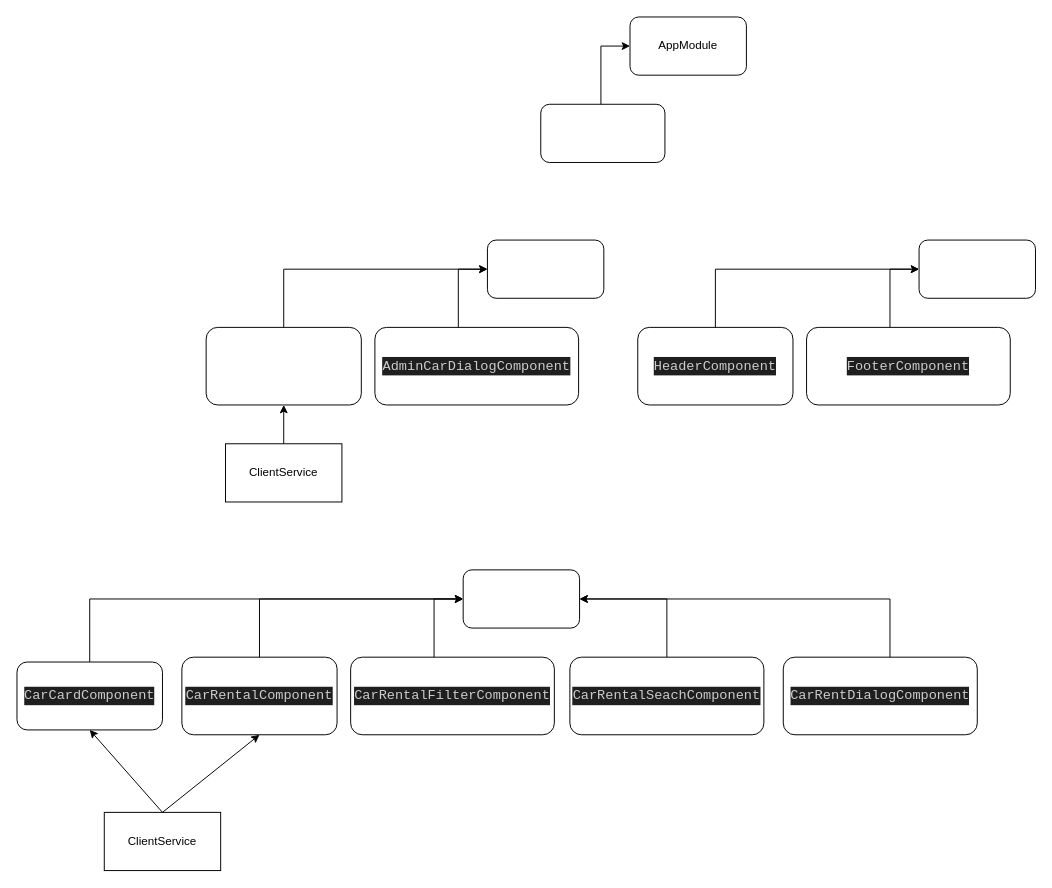
Some shapes in this 1052 by 888 pixel diagram are drawn without their labels. The shapes that lost their labels are listed below. From the top down, each one's centre as x and y in pixels, then its label:
(602,132): AppComponent
(545,268): AdminCarModule
(976,268): LayoutModule
(283,365): AdminCarListComponent
(521,598): CarModule
